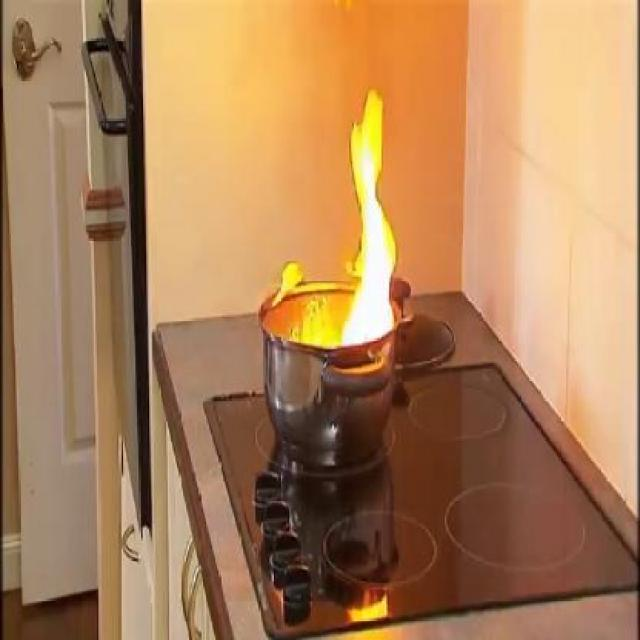fire: (250, 82, 408, 350)
